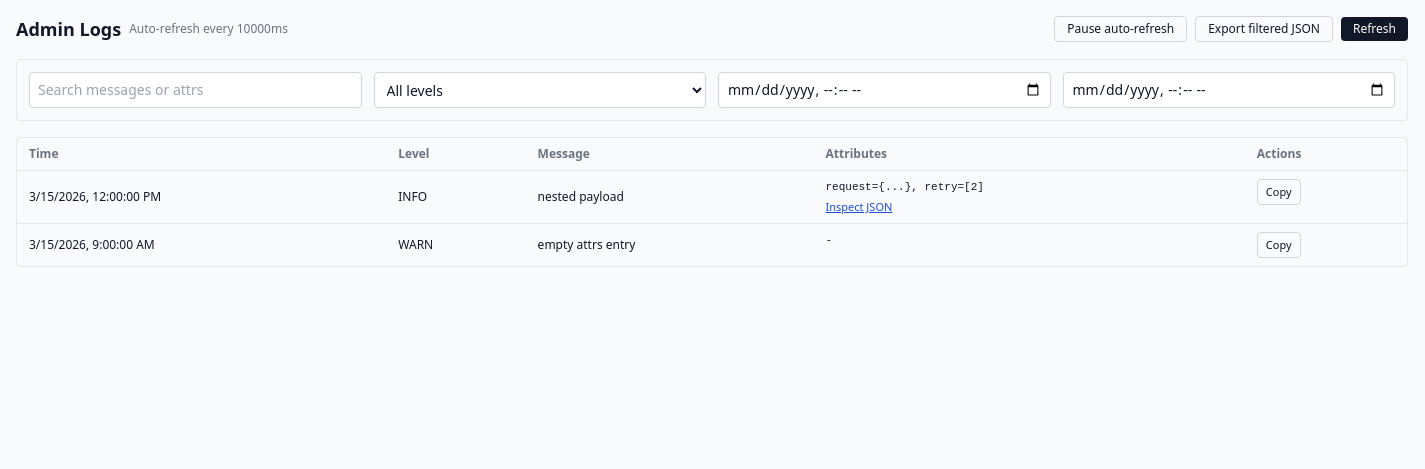
Test case: AdminLogs › supports nested attrs inspection with empty attrs fallback and searchText filtering
The width and height of the screenshot is (1425, 469).
expect the text with test id "admin-log-attrs-summary-empty-1" reads "-": met, box [826,234,832,246]
Type "trace-id-9" into the field named "Search logs" at (195, 90), box [29,72,362,108]
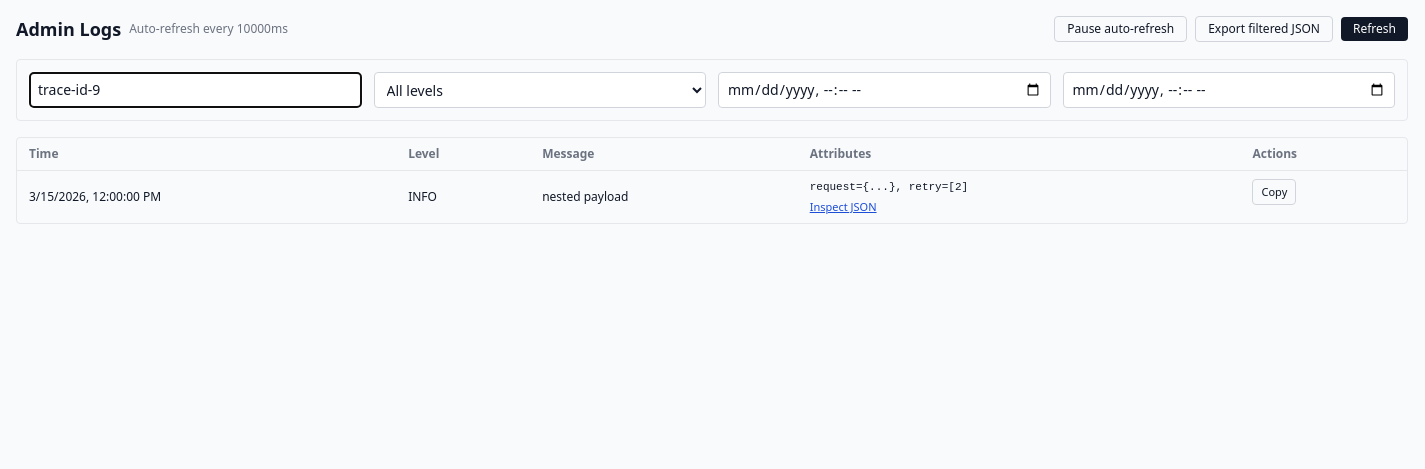
expect the text "nested payload" is shown: met, box [530,170,798,223]
expect the text "empty attrs entry" is gone: met
Click the button with aria-label "Inspect attrs nested-1" at (843, 207), box [810,199,877,215]
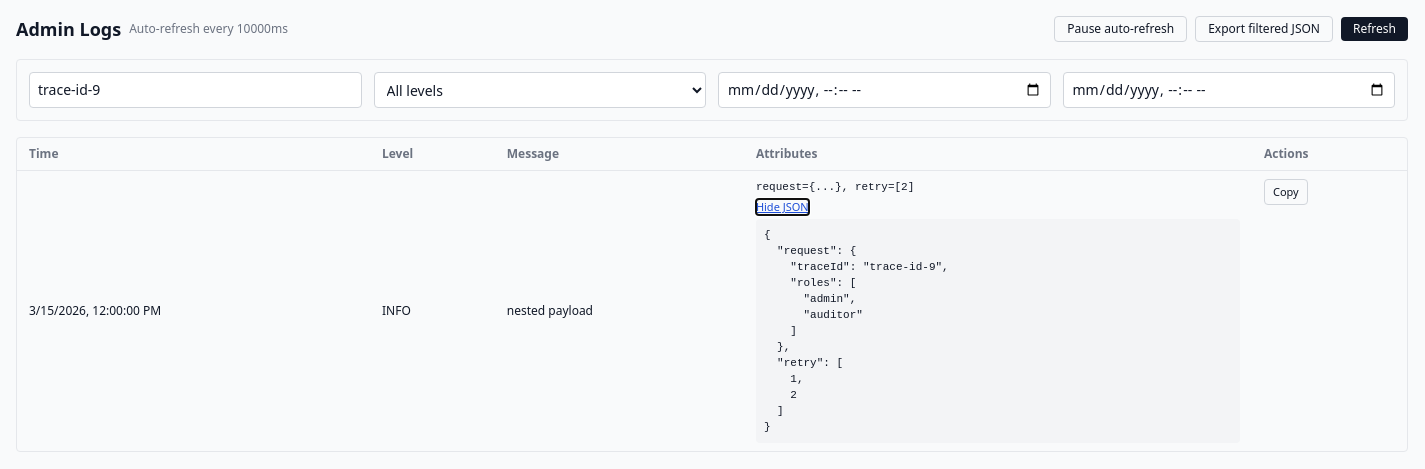
expect the text with test id "admin-log-attrs-json-nested-1" shows "\"traceId\": \"trace-id-9\"": met, box [764,229,949,433]
expect the text with test id "admin-log-attrs-json-nested-1" shows "\"roles\": [": met, box [764,229,949,433]
